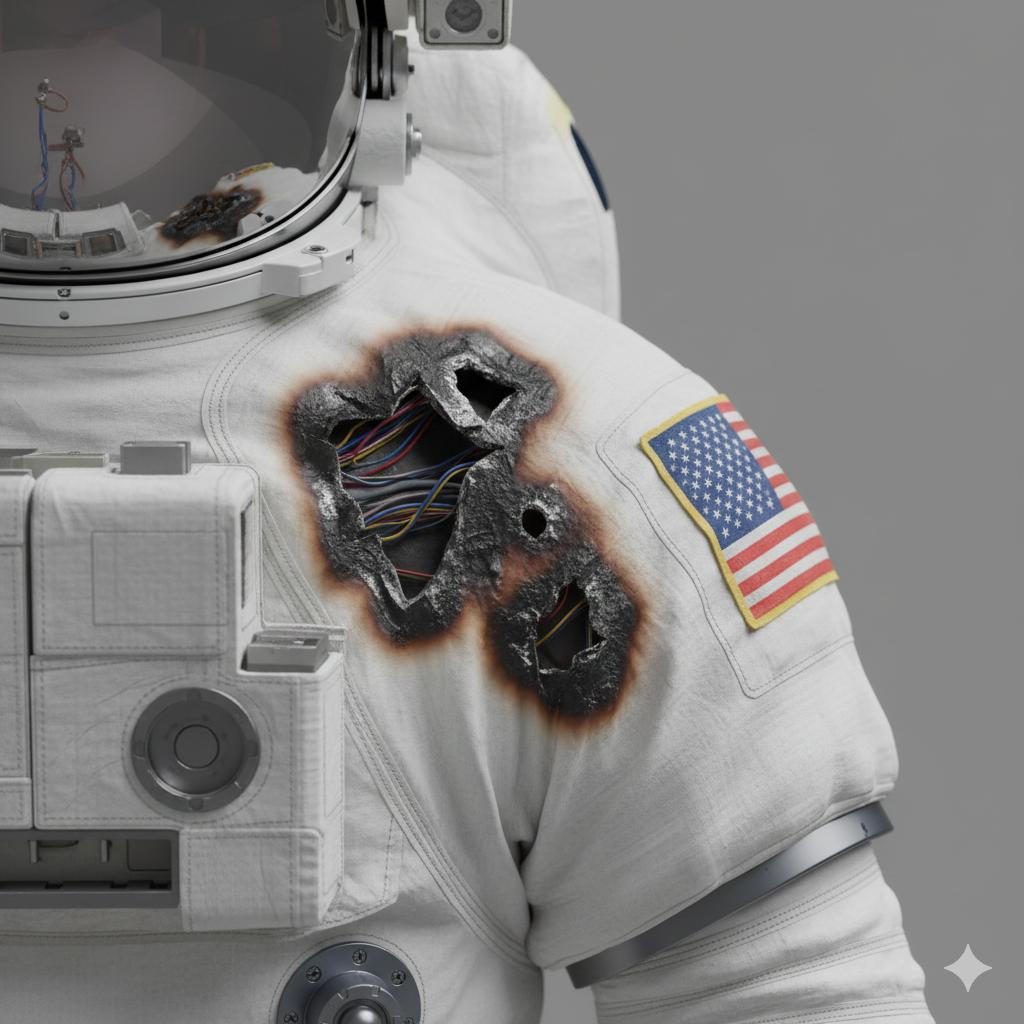burn: (182, 281, 699, 776)
